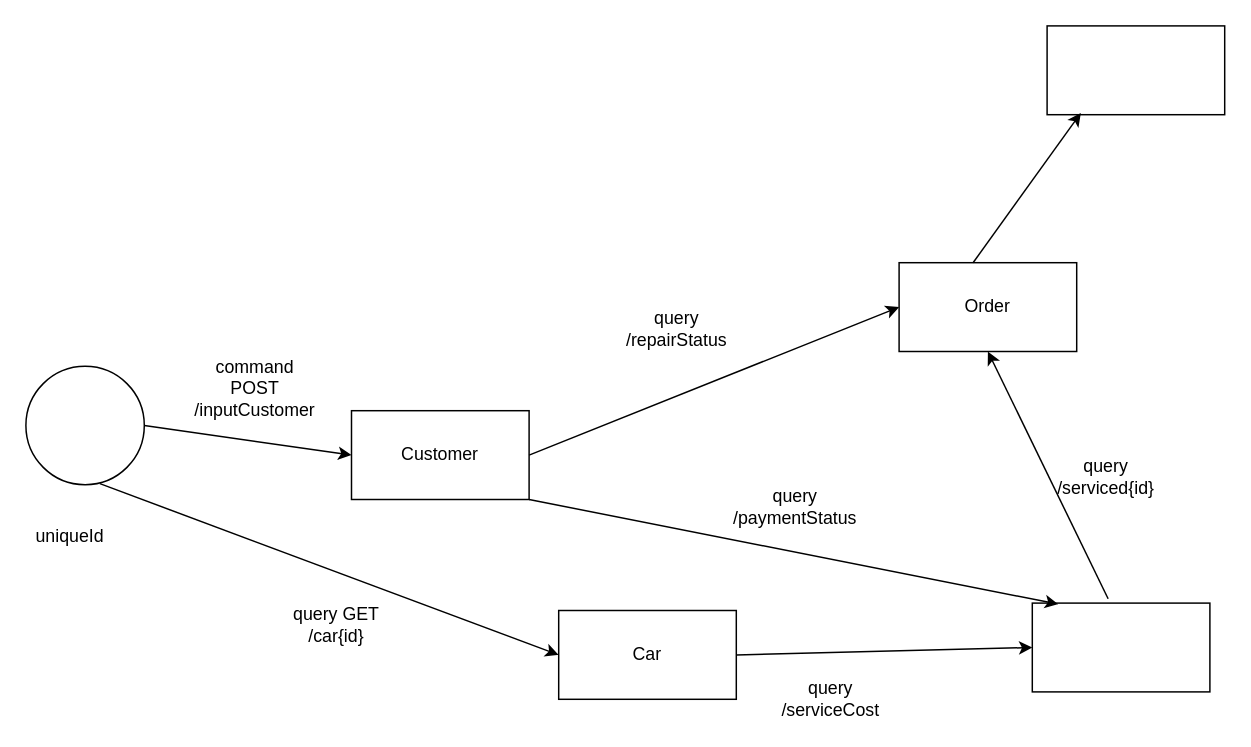
The diagram is 1251 pixels wide and 747 high, and some of its shapes have lost their labels. The centre of each missing label's shape, as x and y in pixels:
"Invoice" belongs at point 1120,647.
"zdalny serwer HTTP" belongs at point 1135,69.
